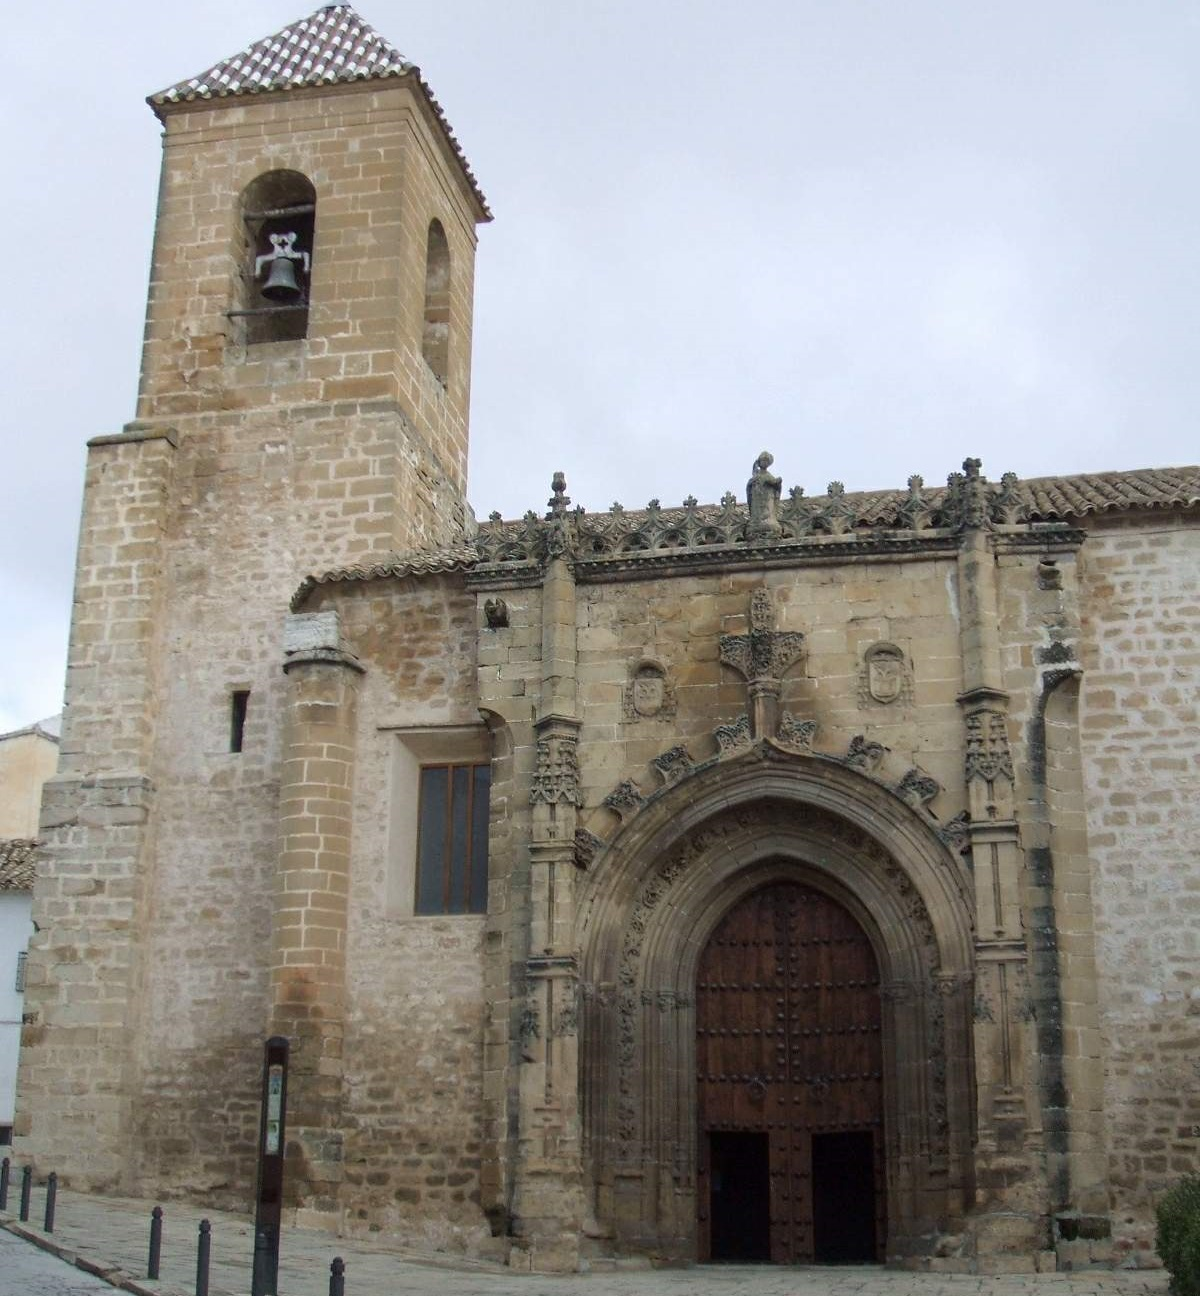arco-apuntado: (671, 843, 904, 1009)
